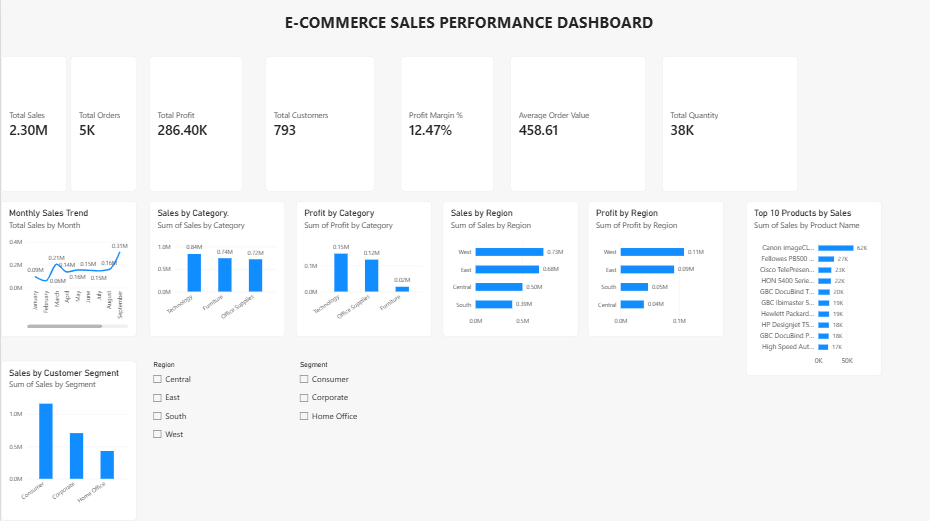

What the dashboard file says about the page in this screenshot:
{"tool":"powerbi","page":{"name":"Page 1","canvas":[1920,1080],"ordinal":0},"visuals":[{"type":"cardVisual","fields":{"Data":["Sample - Superstore.Total Sales","Sample - Superstore.Total Orders"]},"box":[0,120,280,280],"z":0},{"type":"cardVisual","fields":{"Data":["Sample - Superstore.Total Quantity"]},"box":[1366.7,120,280,280],"z":2000},{"type":"cardVisual","fields":{"Data":["Sample - Superstore.Average Order Value"]},"box":[1052.5,120,280,280],"z":3000},{"type":"lineChart","title":"Monthly Sales Trend","fields":{"Category":["Sample - Superstore.Order Date.Variation.Date Hierarchy.Year","Sample - Superstore.Order Date.Variation.Date Hierarchy.Month"],"Y":["Sample - Superstore.Total Sales"]},"box":[0,420,280,280],"z":4000},{"type":"clusteredColumnChart","title":"Sales by Category.","fields":{"Category":["Sample - Superstore.Category"],"Y":["Sum(Sample - Superstore.Sales)"]},"box":[306.7,420,280,280],"z":5000},{"type":"clusteredColumnChart","title":"Profit by Category","fields":{"Category":["Sample - Superstore.Category"],"Y":["Sum(Sample - Superstore.Profit)"]},"box":[610,420,280,280],"z":6000},{"type":"clusteredBarChart","title":"Sales by Region","fields":{"Category":["Sample - Superstore.Region"],"Y":["Sum(Sample - Superstore.Sales)"]},"box":[913.3,420,280,280],"z":7000},{"type":"clusteredBarChart","title":"Profit by Region","fields":{"Category":["Sample - Superstore.Region"],"Y":["Sum(Sample - Superstore.Profit)"]},"box":[1213.3,420,280,280],"z":8000},{"type":"clusteredColumnChart","title":"Sales by Customer Segment","fields":{"Category":["Sample - Superstore.Segment"],"Y":["Sum(Sample - Superstore.Sales)"]},"box":[0,750,280,330],"z":9000},{"type":"clusteredBarChart","title":"Top 10 Products by Sales","fields":{"Category":["Sample - Superstore.Product Name"],"Y":["Sum(Sample - Superstore.Sales)"]},"box":[1540,420,280,361],"z":10000},{"type":"slicer","fields":{"Values":["Sample - Superstore.Region"]},"box":[306.7,750,280,280],"z":11000},{"type":"slicer","fields":{"Values":["Sample - Superstore.Segment"]},"box":[610,750,280,200],"z":12000},{"type":"textbox","box":[585,25,765,190],"z":13000},{"type":"cardVisual","fields":{"Data":["Sample - Superstore.Total Profit"]},"box":[307.5,120,192.5,280],"z":14000},{"type":"cardVisual","fields":{"Data":["Sample - Superstore.Profit Margin %"]},"box":[827.5,120,192.5,280],"z":15000},{"type":"cardVisual","fields":{"Data":["Sample - Superstore.Total Customers"]},"box":[547.5,120,225,280],"z":16000}]}

Visuals, with their boxes in screenshot pixels (x1, y1, x2, y2), scaled from the page's 1920x1080 canvas onto the 930x521 screenshot:
cardVisual - Sample - Superstore.Total Sales x Sample - Superstore.Total Orders: x1=0, y1=58, x2=136, y2=193
cardVisual - Sample - Superstore.Total Quantity: x1=662, y1=58, x2=798, y2=193
cardVisual - Sample - Superstore.Average Order Value: x1=510, y1=58, x2=645, y2=193
"Monthly Sales Trend" lineChart: x1=0, y1=203, x2=136, y2=338
"Sales by Category." clusteredColumnChart: x1=149, y1=203, x2=284, y2=338
"Profit by Category" clusteredColumnChart: x1=295, y1=203, x2=431, y2=338
"Sales by Region" clusteredBarChart: x1=442, y1=203, x2=578, y2=338
"Profit by Region" clusteredBarChart: x1=588, y1=203, x2=723, y2=338
"Sales by Customer Segment" clusteredColumnChart: x1=0, y1=362, x2=136, y2=520
"Top 10 Products by Sales" clusteredBarChart: x1=746, y1=203, x2=882, y2=377
slicer - Sample - Superstore.Region: x1=149, y1=362, x2=284, y2=497
slicer - Sample - Superstore.Segment: x1=295, y1=362, x2=431, y2=458
textbox: x1=283, y1=12, x2=654, y2=104
cardVisual - Sample - Superstore.Total Profit: x1=149, y1=58, x2=242, y2=193
cardVisual - Sample - Superstore.Profit Margin %: x1=401, y1=58, x2=494, y2=193
cardVisual - Sample - Superstore.Total Customers: x1=265, y1=58, x2=374, y2=193
